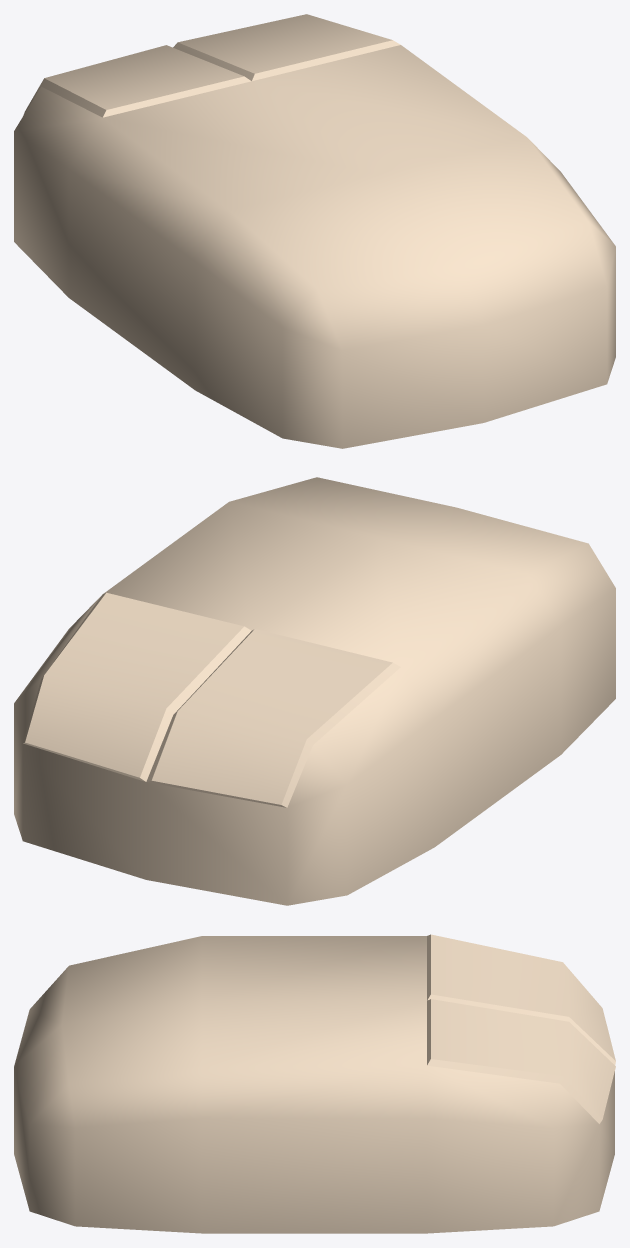
File: mouse1.fbx
The picture shows the model from 3 angles, top to bottom: view 1: azimuth 30°, elevation 25°; view 2: azimuth 150°, elevation 25°; view 3: azimuth 270°, elevation 25°; orthographic projection. The views are drawn at different scales.
Parts seen in each view (by area): view 1: mouse1; view 2: mouse1; view 3: mouse1.
Boxes of the visible parts, box(x1,y1,x2,y2) form: mouse1: box(14, 14, 615, 448); mouse1: box(14, 477, 615, 905); mouse1: box(14, 934, 615, 1233).
Size of the model in its own units: 7.63 by 3.52 by 12.2.
